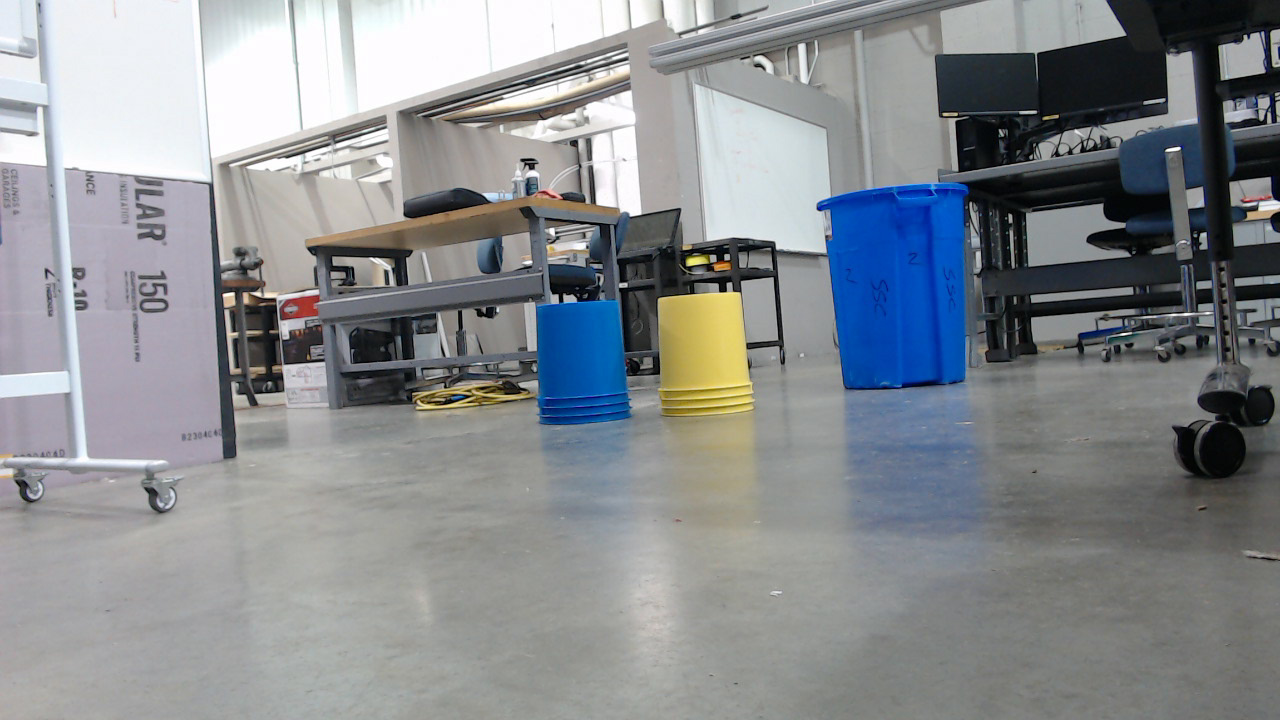blue_bucket: (534, 303, 638, 432)
yellow_bucket: (657, 294, 761, 425)
